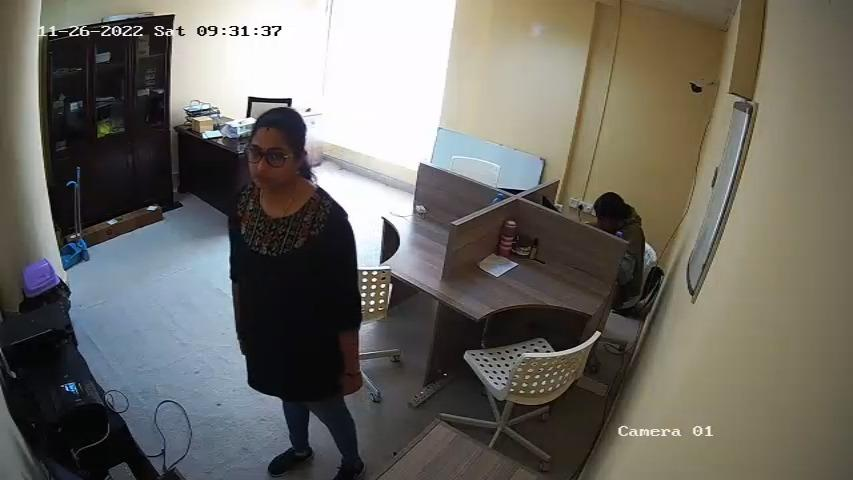no_apron: (231, 200, 335, 383)
